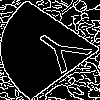Y: (25, 25, 100, 81)
